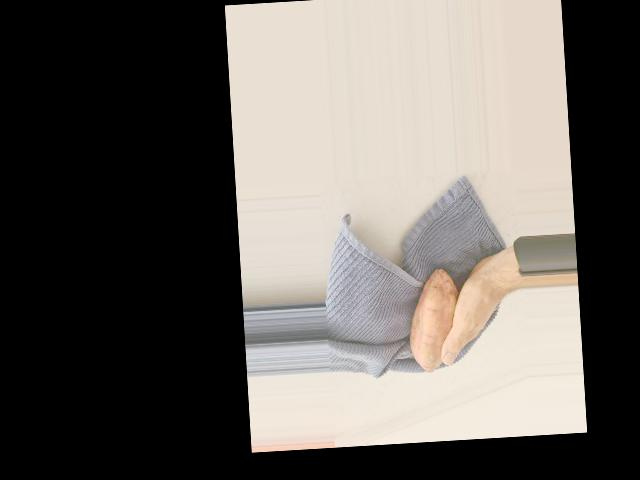sweet_potato: (404, 268, 466, 376)
